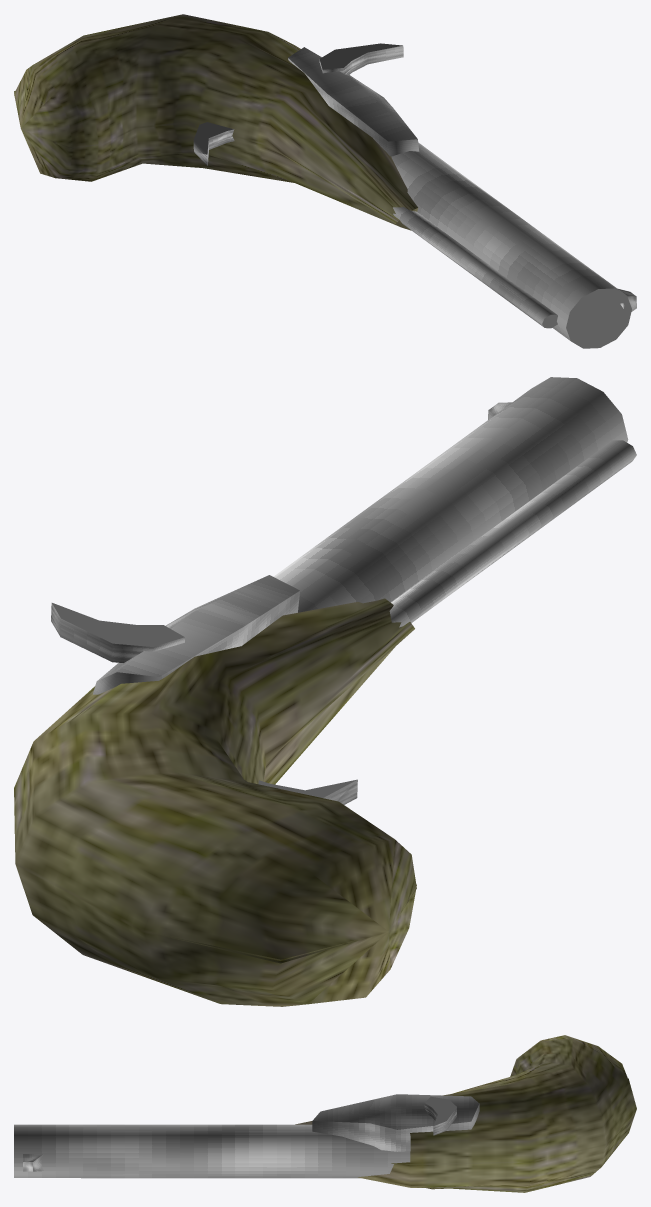
The model's file is pistol.obj.
3 renders of one model, top to bottom at view 1: azimuth 30°, elevation 25°; view 2: azimuth 150°, elevation 25°; view 3: azimuth 270°, elevation 25°, orthographic. The views are drawn at different scales.
Visible parts, largest first — view 1: Duplicate01, Cylinder02, Cylinder01, Cylinder04, Cylinder03, Cylinder05, Duplicate03; view 2: Duplicate01, Cylinder02, Cylinder01, Cylinder03, Cylinder04, Cylinder05, Duplicate03; view 3: Cylinder02, Duplicate01, Cylinder01, Cylinder04, Cylinder05, Box01.
Boxes of the visible parts, x1,y1,x2,y2 form: Duplicate01: [14, 14, 418, 223]; Cylinder02: [391, 142, 631, 348]; Cylinder01: [14, 91, 411, 230]; Cylinder04: [288, 47, 419, 156]; Cylinder03: [393, 207, 557, 328]; Cylinder05: [319, 43, 403, 75]; Duplicate03: [193, 122, 234, 165]; Duplicate01: [14, 598, 416, 963]; Cylinder02: [273, 377, 628, 612]; Cylinder01: [15, 647, 416, 1006]; Cylinder03: [389, 440, 636, 627]; Cylinder04: [93, 575, 299, 694]; Cylinder05: [51, 603, 184, 662]; Duplicate03: [258, 779, 357, 804]; Cylinder02: [14, 1124, 410, 1178]; Duplicate01: [295, 1035, 636, 1164]; Cylinder01: [358, 1078, 636, 1192]; Cylinder04: [312, 1094, 479, 1151]; Cylinder05: [424, 1096, 456, 1135]; Box01: [23, 1154, 43, 1171].
Bounding box in the file's own units: 28.19 × 12.11 × 63.99.
